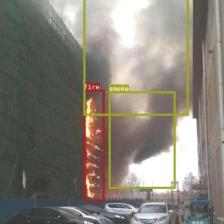fire: (83, 89, 104, 202)
smoke: (83, 0, 188, 115), (109, 91, 175, 189)
